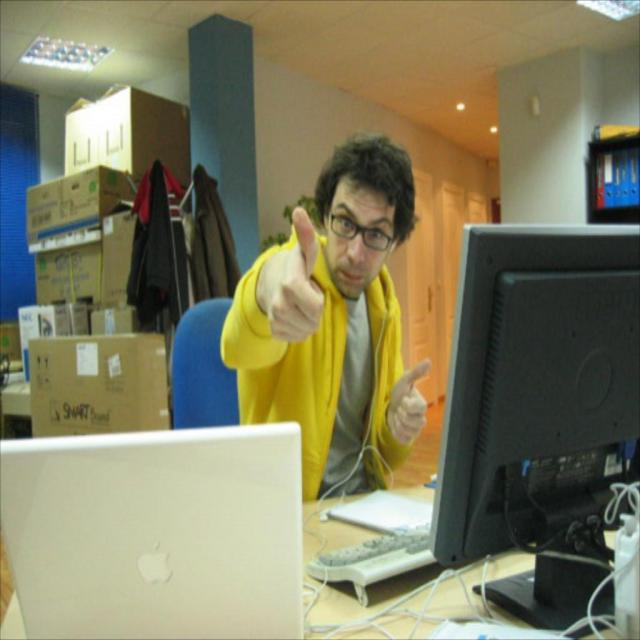chair: (170, 297, 240, 431)
desk: (2, 490, 614, 638)
laptop: (4, 422, 306, 638)
person: (221, 132, 428, 503)
tv: (427, 222, 636, 564)
